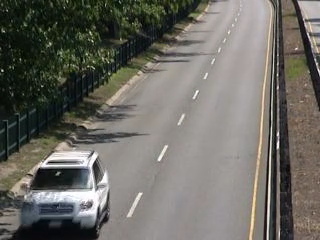car: (14, 143, 117, 233)
